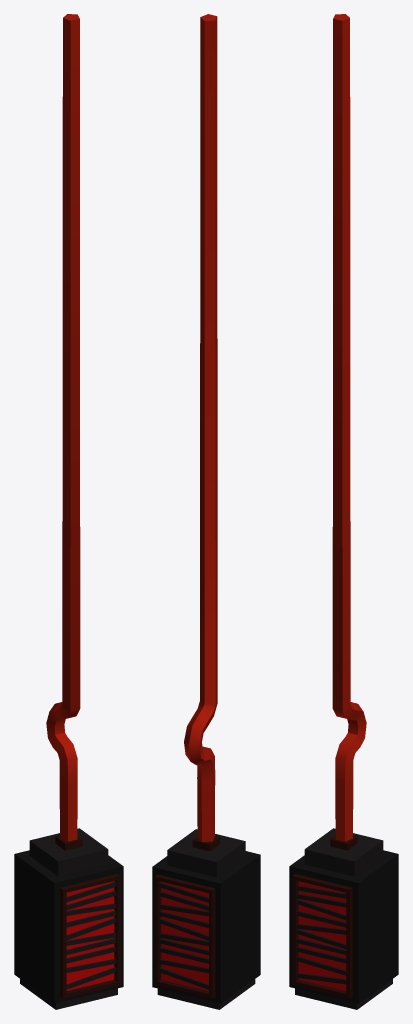
File: cal_dos.fbx
3 renders of one model, left to right at view 1: azimuth 30°, elevation 25°; view 2: azimuth 150°, elevation 25°; view 3: azimuth 330°, elevation 25°, orthographic.
Parts seen in each view (by area): view 1: cal_dos; view 2: cal_dos; view 3: cal_dos.
Boxes of the visible parts, x1,y1,x2,y2 form: cal_dos: (14, 14, 123, 1009); cal_dos: (152, 14, 260, 1009); cal_dos: (289, 14, 398, 1009).
Size of the model in its own units: 150 by 2018 by 172.
